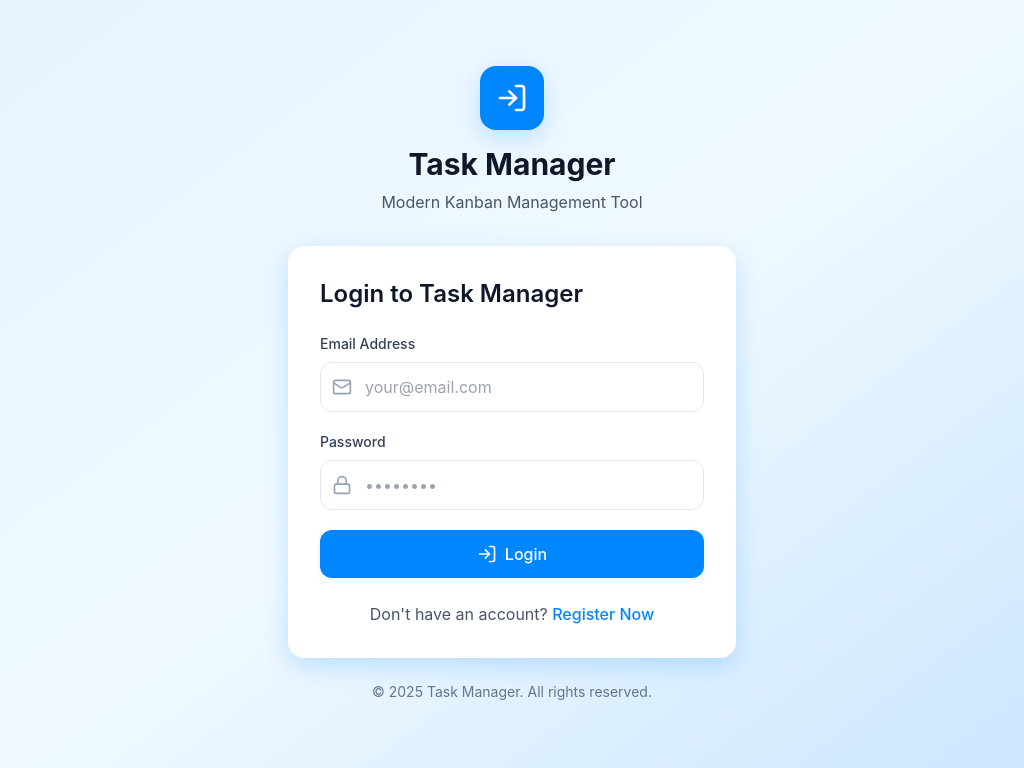
LoginPage › should show error message on failed login
Type "test@example.com" into the field labelled "Email Address" at x=512, y=387, box [320,362,704,412]
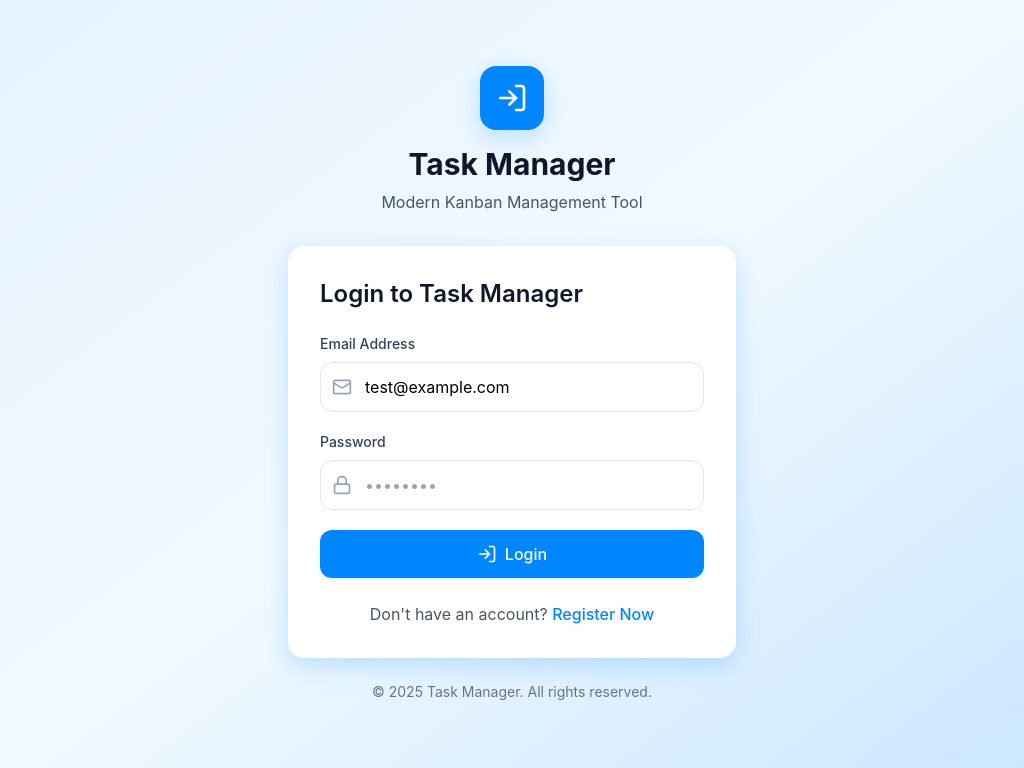
Type "wrongpassword" into the password field labelled "Password" at x=512, y=485, box [320,460,704,510]
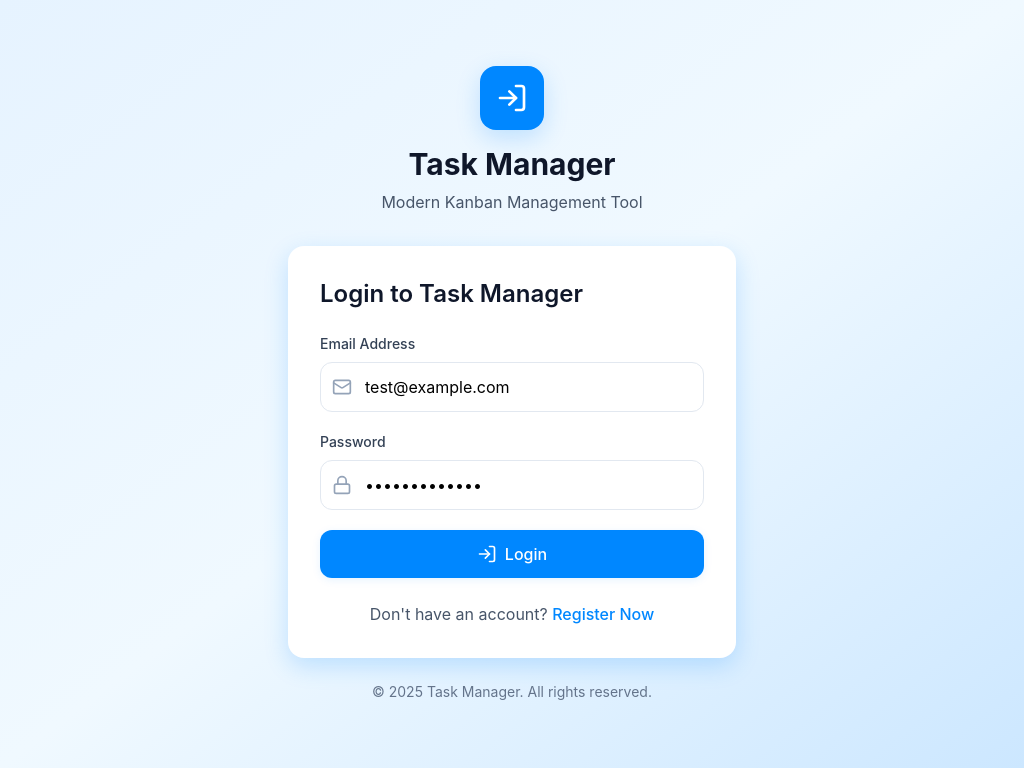
Click the button "Login" at x=512, y=554, box [320,530,704,578]
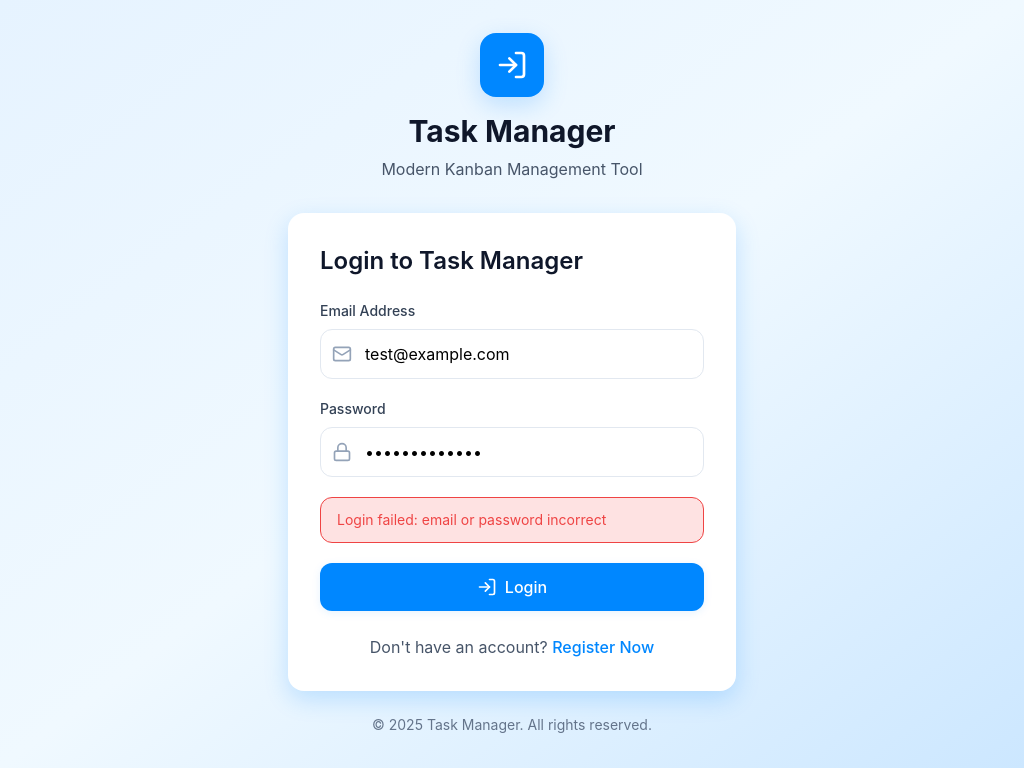
expect the text "Login failed: email or password incorrect" is shown: met, box [320,497,704,543]
